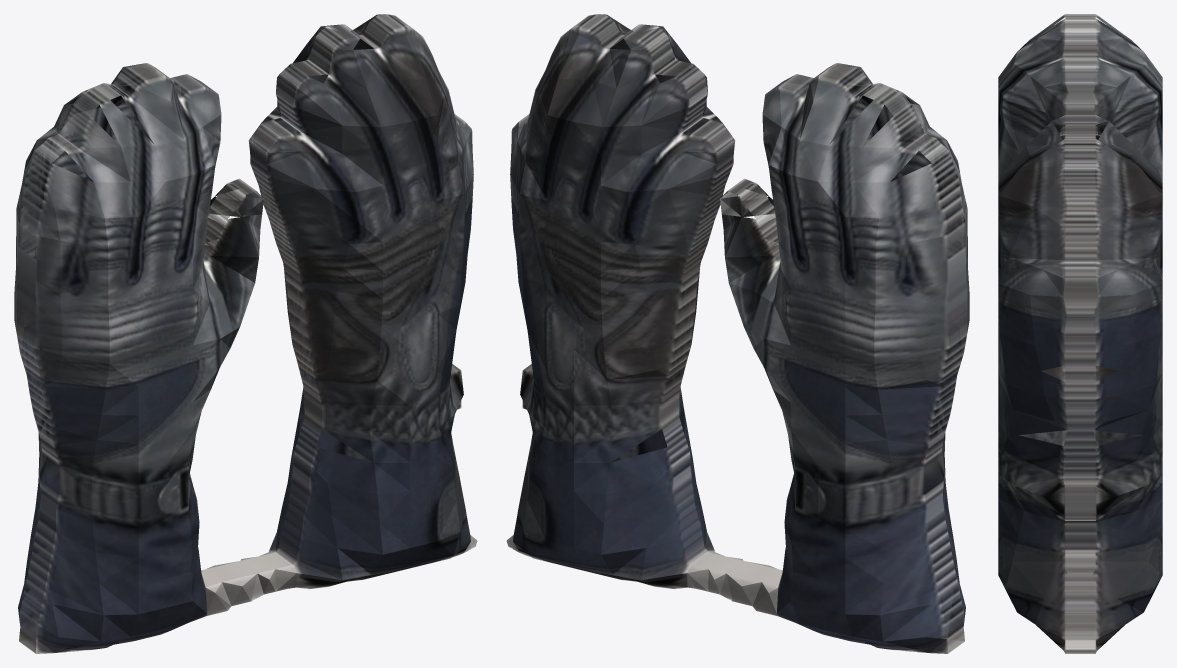
File: scorpion-apex-waterproof-glove-109.glb
The picture shows the model from 3 angles, left to right: view 1: azimuth 30°, elevation 25°; view 2: azimuth 150°, elevation 25°; view 3: azimuth 270°, elevation 25°; orthographic projection. The views are drawn at different scales.
Visible parts, largest first — view 1: world; view 2: world; view 3: world.
Part boxes in pixels (<box>): world: <box>14,14,477,653</box>; world: <box>506,14,969,653</box>; world: <box>998,14,1162,653</box>.
Size of the model in its own units: 0.8333 by 1 by 0.3.
1 material, 1 textured.
